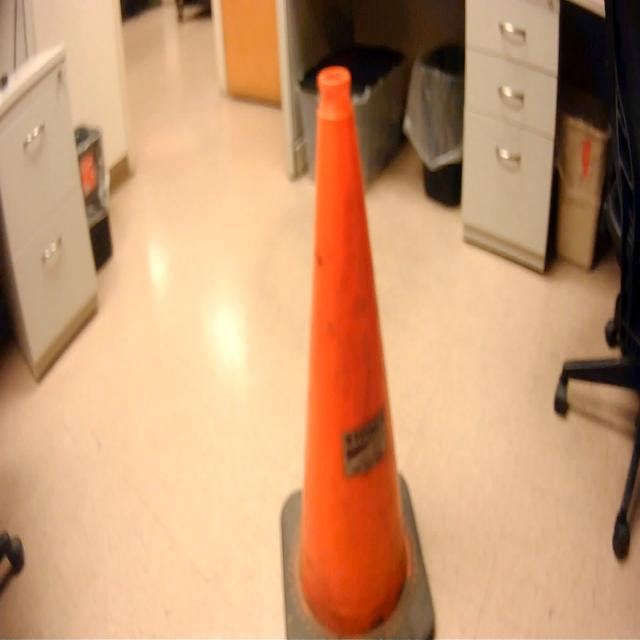traffic cone: (274, 50, 447, 640)
